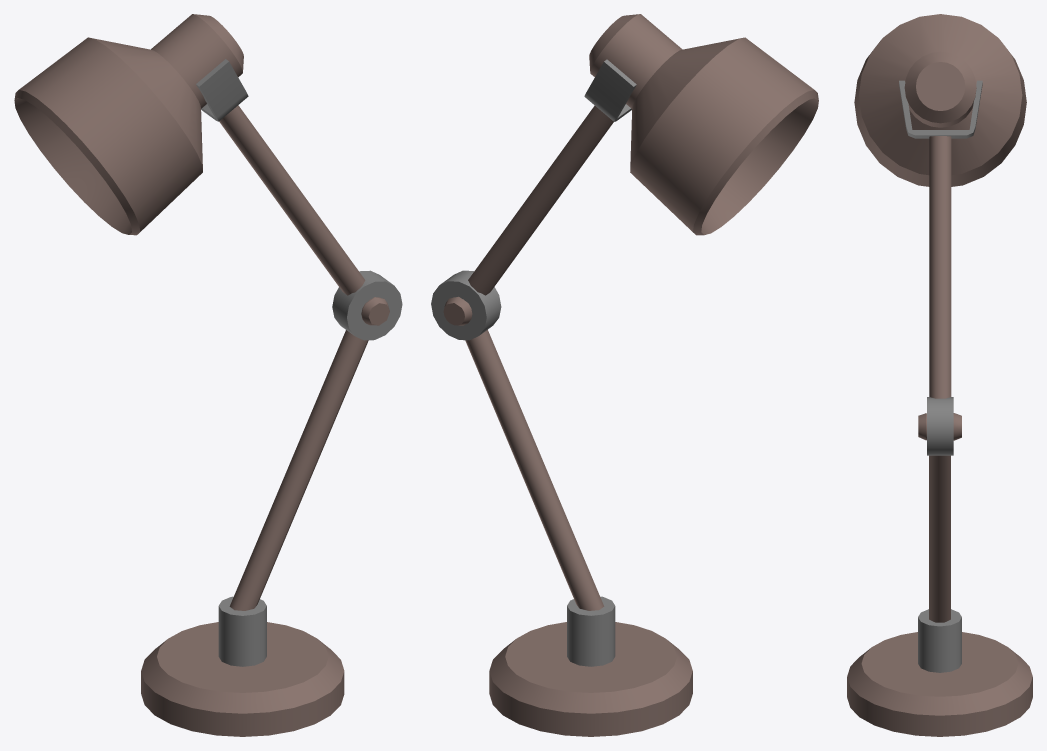
File: lamp.fbx
3 renders of one model, left to right at view 1: azimuth 30°, elevation 25°; view 2: azimuth 150°, elevation 25°; view 3: azimuth 270°, elevation 25°, orthographic. The views are drawn at different scales.
Parts seen in each view (by area): view 1: lamp; view 2: lamp; view 3: lamp.
Boxes of the visible parts, left/top/right/bottom form: lamp: left=14, top=14, right=402, bottom=736; lamp: left=431, top=14, right=818, bottom=736; lamp: left=847, top=14, right=1032, bottom=736.
Size of the model in its own units: 40.07 by 72.94 by 19.57.
